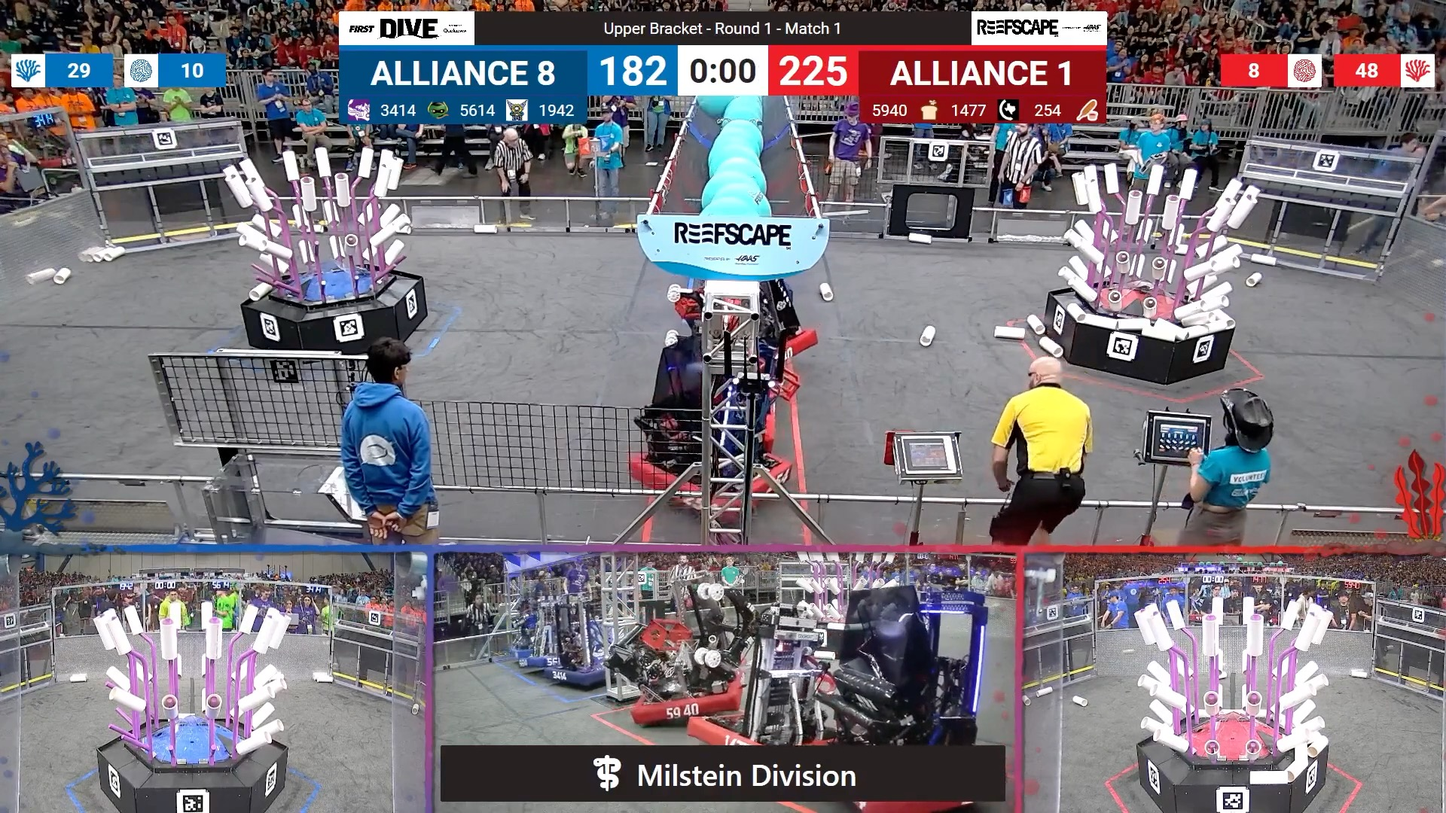bumpers: (626, 444, 792, 518), (635, 671, 749, 717), (772, 326, 830, 377), (526, 658, 625, 687), (510, 650, 568, 670)
